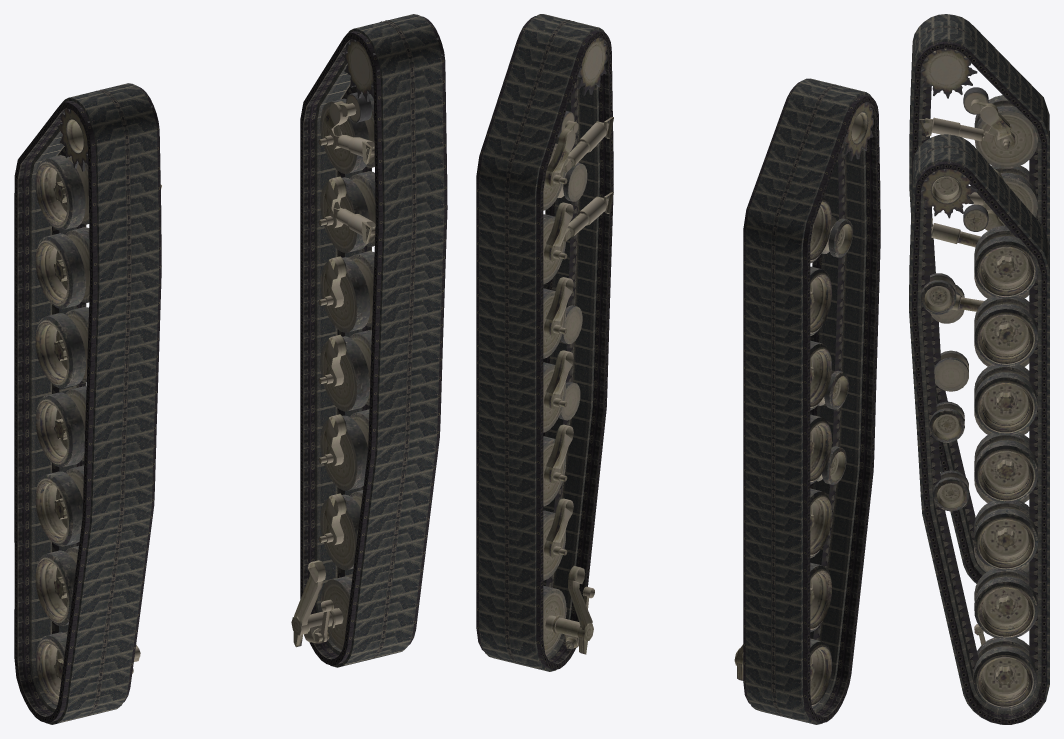
File: Chassis.glb
3 views of the same model, side by side, from view 1: azimuth 30°, elevation 25°; view 2: azimuth 150°, elevation 25°; view 3: azimuth 270°, elevation 25° (orthographic). The views are drawn at different scales.
Visible parts, largest first — view 1: set_1_group_0, set_0_group_0, set_3_group_0, set_2_group_0; view 2: set_1_group_0, set_0_group_0, set_3_group_0, set_2_group_0; view 3: set_3_group_0, set_0_group_0, set_1_group_0, set_2_group_0.
Boxes of the visible parts, bbox=[...] form: set_1_group_0: bbox=[14, 83, 161, 724]; set_0_group_0: bbox=[300, 14, 447, 667]; set_3_group_0: bbox=[291, 16, 442, 649]; set_2_group_0: bbox=[35, 92, 161, 706]; set_1_group_0: bbox=[743, 78, 880, 724]; set_0_group_0: bbox=[476, 14, 613, 671]; set_3_group_0: bbox=[522, 19, 613, 655]; set_2_group_0: bbox=[734, 85, 873, 707]; set_3_group_0: bbox=[916, 161, 1037, 709]; set_0_group_0: bbox=[909, 134, 1049, 724]; set_1_group_0: bbox=[909, 14, 1049, 583]; set_2_group_0: bbox=[919, 42, 1037, 572].
Size of the model in its own units: 3.66 by 6.49 by 1.46.
Materials: 4 (4 with a texture image).
